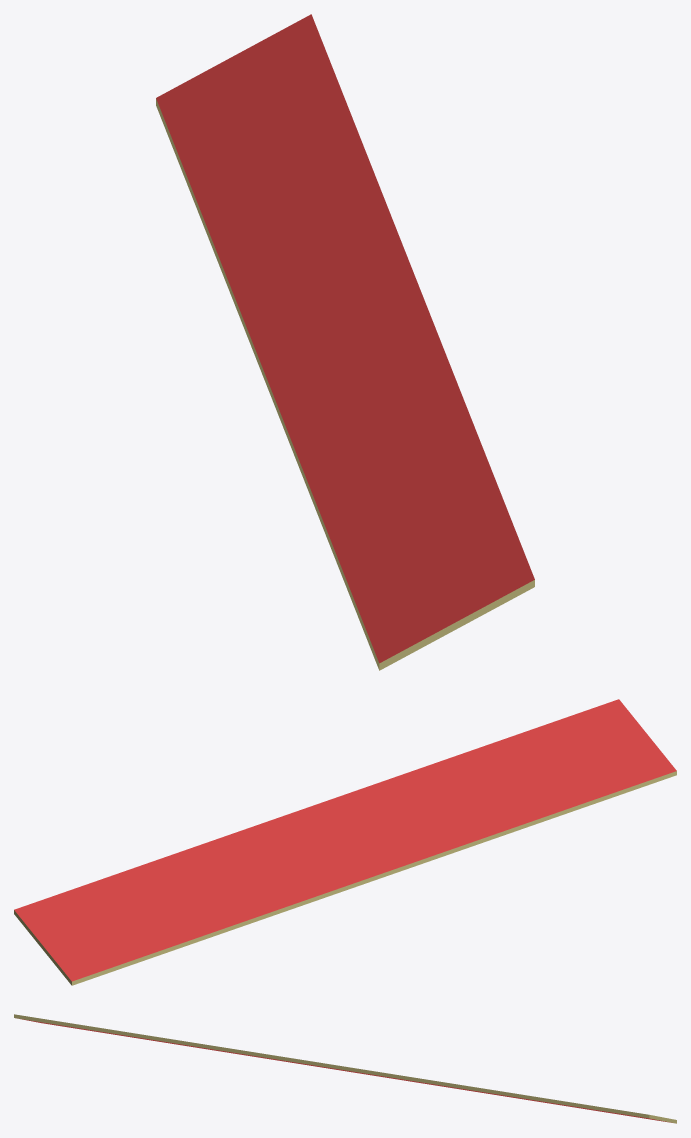
3 views of the same model, one above another, from view 1: azimuth 30°, elevation 25°; view 2: azimuth 150°, elevation 25°; view 3: azimuth 270°, elevation 25° (orthographic). The views are drawn at different scales.
Bounding box in the file's own units: 7.66 × 16.3 × 1.09.
